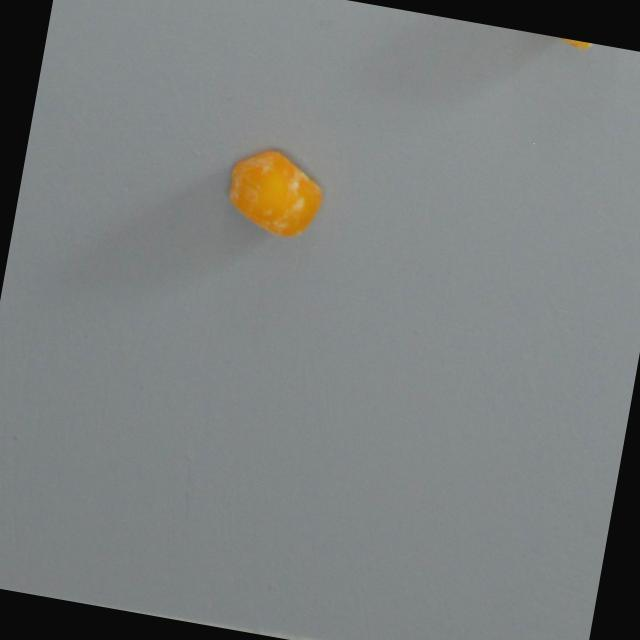dañado: (214, 138, 334, 249)
pelicula: (517, 30, 628, 63)
